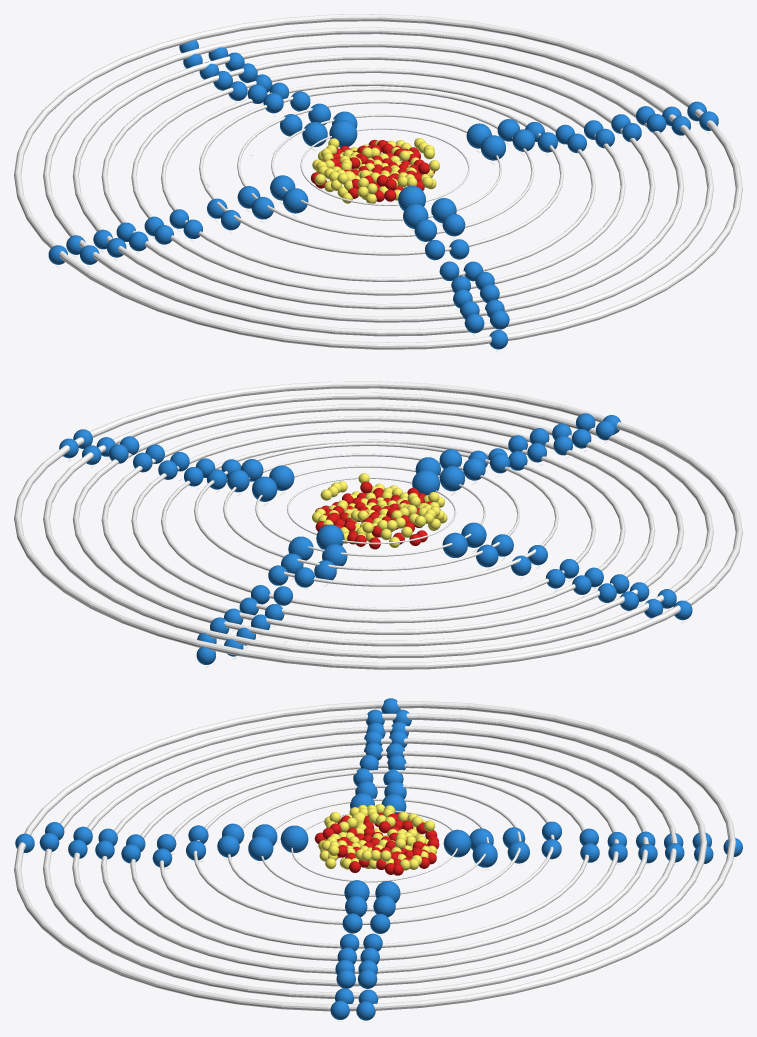
The picture shows the model from 3 angles, top to bottom: view 1: azimuth 30°, elevation 25°; view 2: azimuth 150°, elevation 25°; view 3: azimuth 270°, elevation 25°; orthographic projection.
Visible parts, largest first — view 1: Torus.010, Torus.009, Torus.008, Torus.007, Torus.006, Torus.005, Torus.004, Torus.003, Torus.002, Torus.001, g; view 2: Torus.010, Torus.009, Torus.008, Torus.007, Torus.006, Torus.005, Torus.004, Torus.003, Torus.002, Torus.001, g.001, g (+4 smaller); view 3: Torus.010, Torus.009, Torus.008, Torus.007, Torus.006, Torus.005, Torus.004, Torus.003, Torus.002, g.001, g, Torus.001.
Part boxes in pixels (x1,y1,x2,y2): Torus.010: (14,14,742,349); Torus.009: (43,27,713,336); Torus.008: (72,41,684,322); Torus.007: (101,54,655,309); Torus.006: (131,68,625,295); Torus.005: (161,81,595,281); Torus.004: (199,87,563,255); Torus.003: (237,100,534,237); Torus.002: (271,114,501,220); Torus.001: (300,128,469,205); g: (329,120,357,147); Torus.010: (14,381,742,669); Torus.009: (43,392,713,658); Torus.008: (72,404,684,646); Torus.007: (101,416,655,634); Torus.006: (131,427,625,623); Torus.005: (161,439,595,611); Torus.004: (194,442,558,586); Torus.003: (223,453,519,570); Torus.002: (255,465,485,556); Torus.001: (287,477,456,544); g.001: (412,470,439,495); g: (316,524,344,549); Torus.010: (14,701,735,1011); Torus.009: (43,713,707,998); Torus.008: (72,726,677,986); Torus.007: (100,738,648,973); Torus.006: (130,751,618,961); Torus.005: (159,763,588,948); Torus.004: (193,770,554,924); Torus.003: (227,785,521,911); Torus.002: (261,798,488,896); g.001: (280,825,308,852); g: (443,829,471,857); Torus.001: (291,810,457,882).
Bounding box in the file's own units: 26.34 × 2.85 × 26.08.
